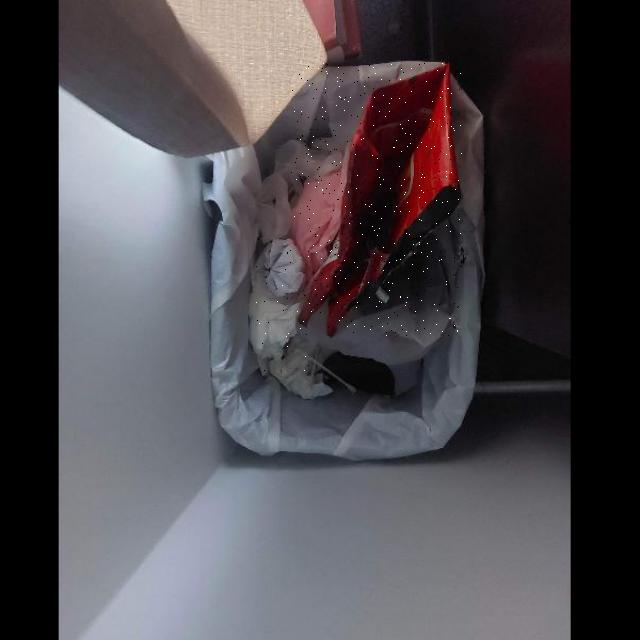paper: (248, 237, 310, 376)
wrapper: (291, 63, 462, 336)
